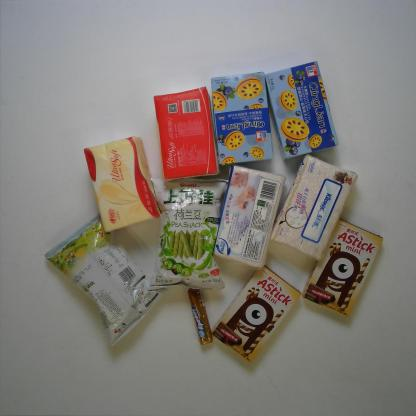Candy: (184, 285, 216, 347)
Dessert: (208, 261, 304, 367), (300, 215, 384, 322), (262, 58, 342, 164), (207, 68, 277, 168)
Puffed Food: (40, 208, 172, 350), (140, 168, 233, 297)
Tissue: (265, 150, 363, 264), (209, 159, 290, 271), (80, 132, 164, 237), (149, 83, 224, 186)
